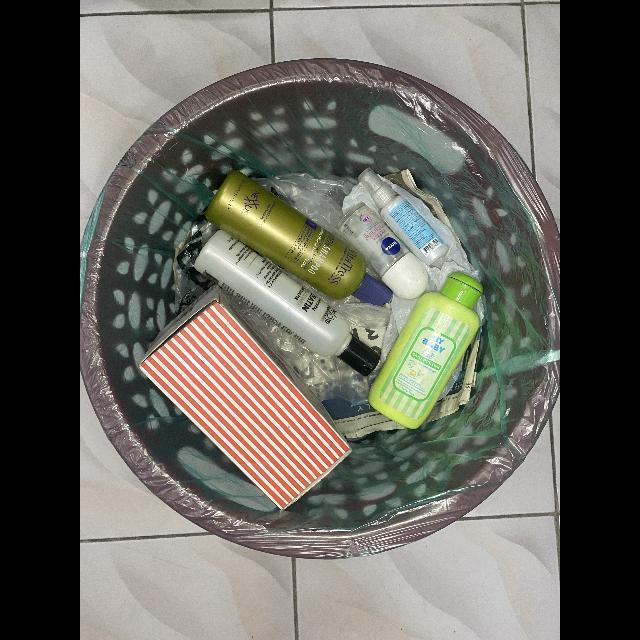glass: (336, 202, 430, 300)
paper: (139, 285, 353, 511)
plastic: (194, 230, 380, 377), (205, 170, 394, 306), (368, 272, 483, 430), (380, 177, 475, 364), (358, 168, 447, 266)
